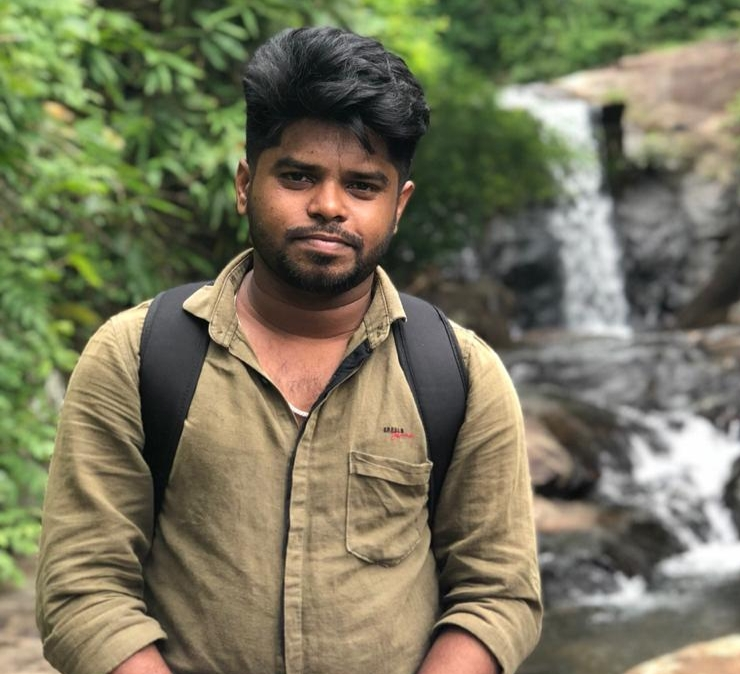face: (230, 28, 416, 283)
